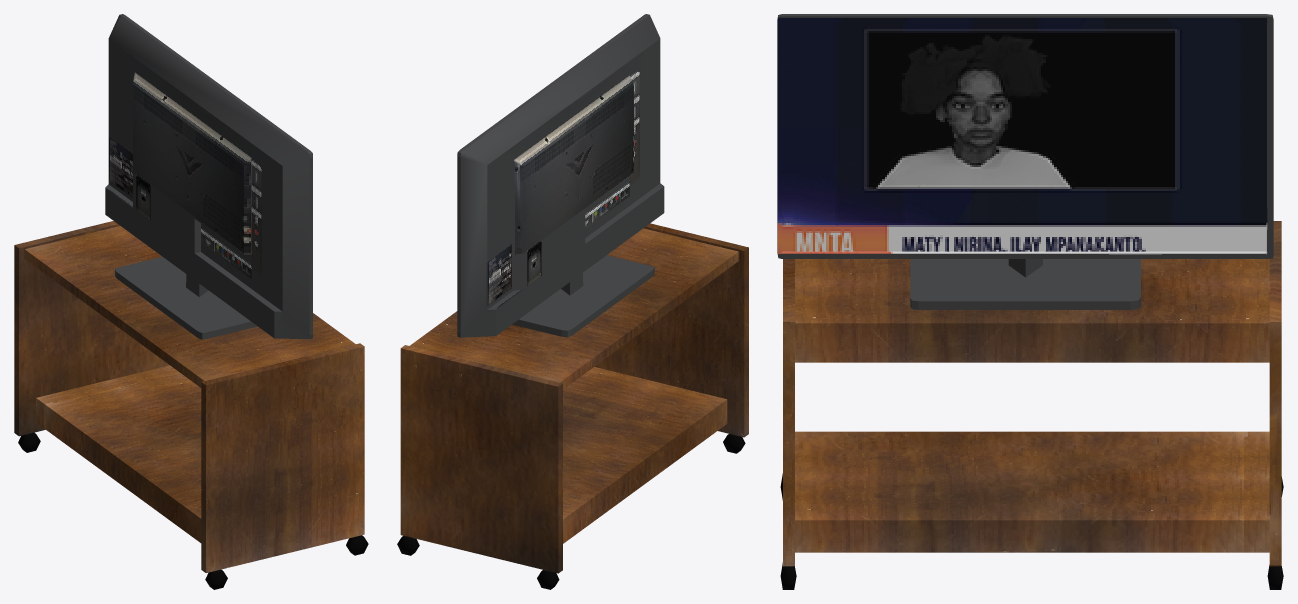
The picture shows the model from 3 angles, left to right: view 1: azimuth 30°, elevation 25°; view 2: azimuth 150°, elevation 25°; view 3: azimuth 270°, elevation 25°; orthographic projection. The views are drawn at different scales.
Visible parts, largest first — view 1: TV and TV Stand; view 2: TV and TV Stand; view 3: TV and TV Stand.
Boxes of the visible parts, box(x1,y1,x2,y2) form: TV and TV Stand: box(14, 14, 368, 589); TV and TV Stand: box(397, 14, 748, 589); TV and TV Stand: box(777, 14, 1283, 589).
Size of the model in its own units: 0.7488 by 1.83 by 1.55.
Materials: 1 (1 with a texture image).
